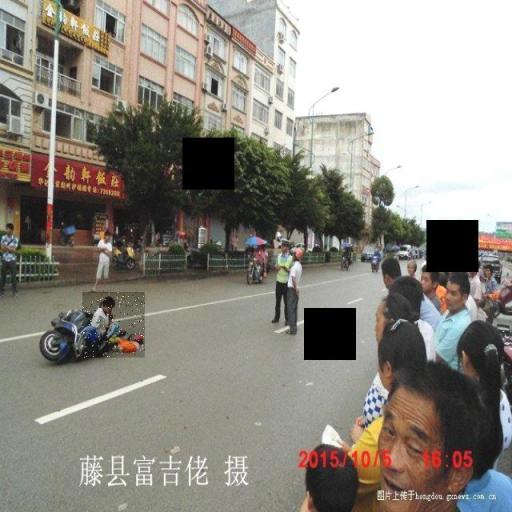Fall: (82, 292, 145, 358)
